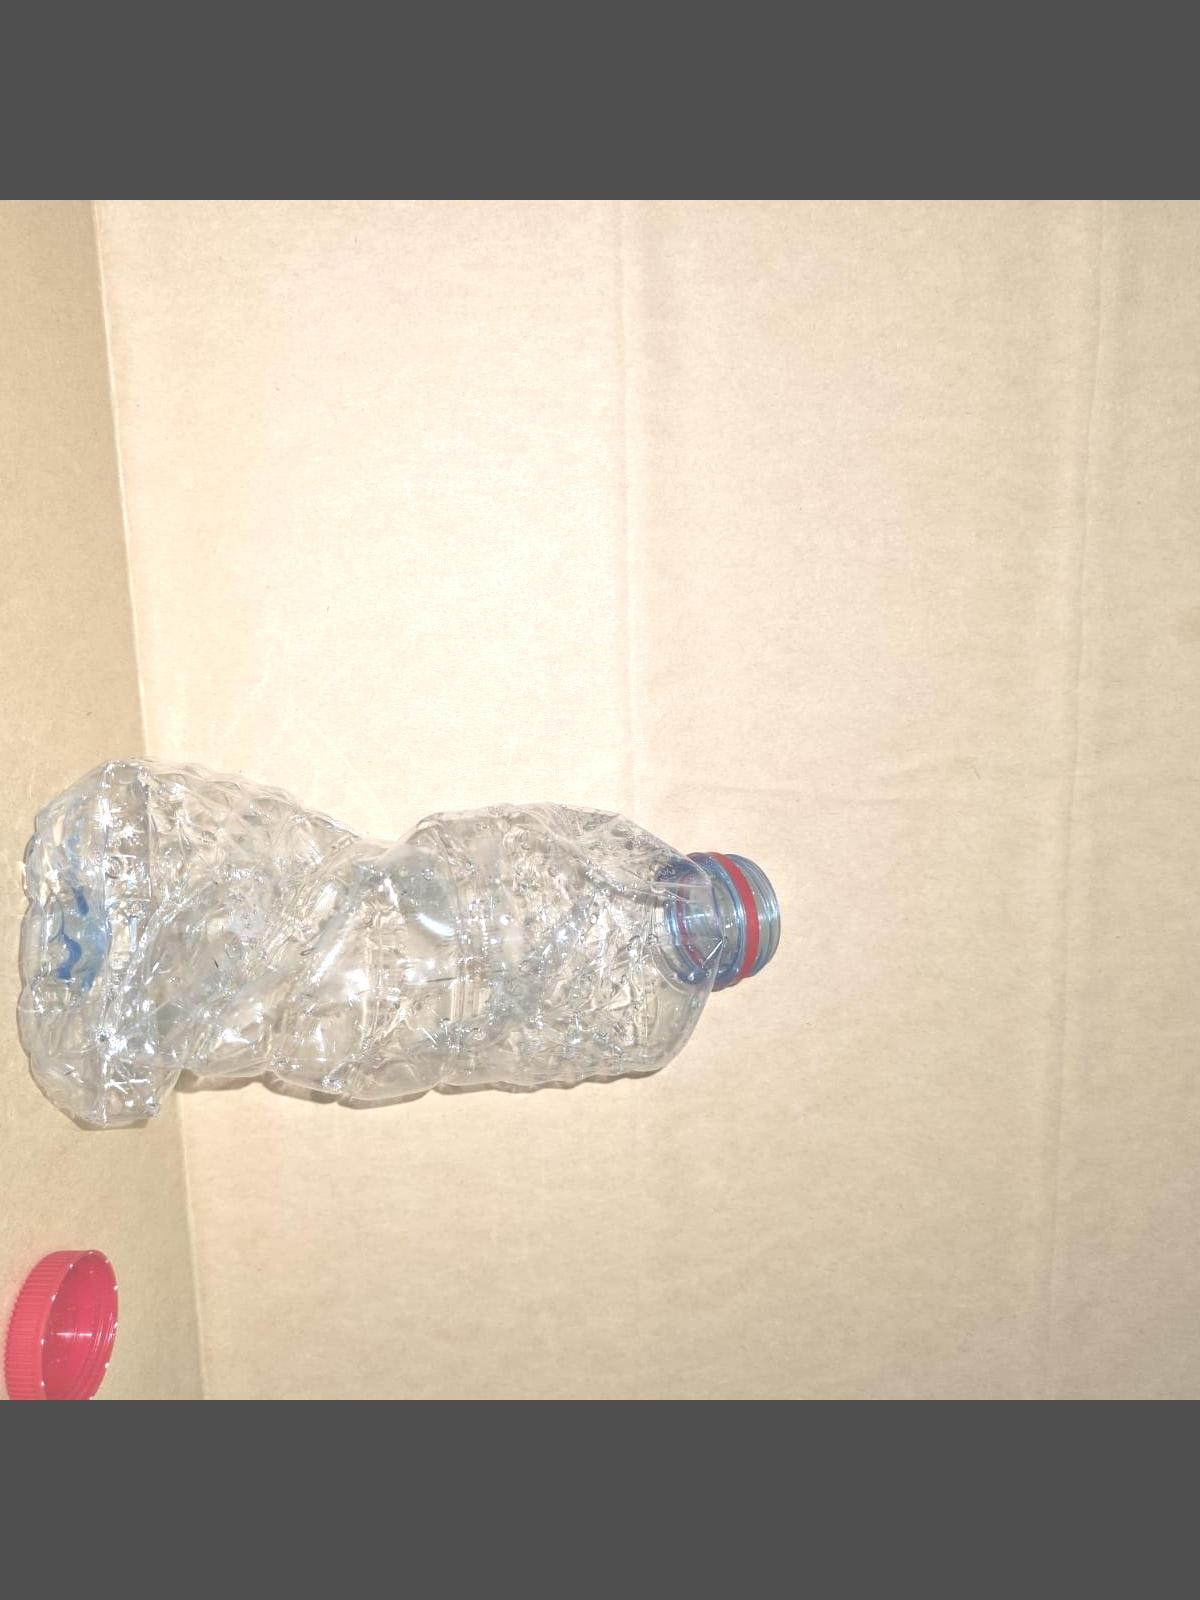bottle: (7, 775, 774, 1147)
